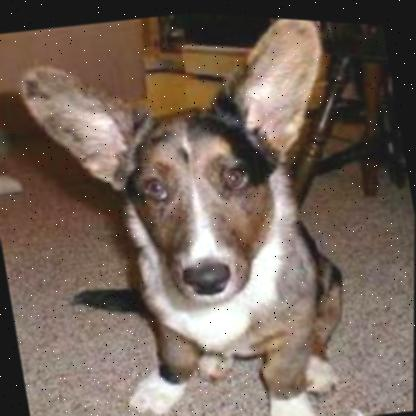dog: (8, 1, 386, 416)
